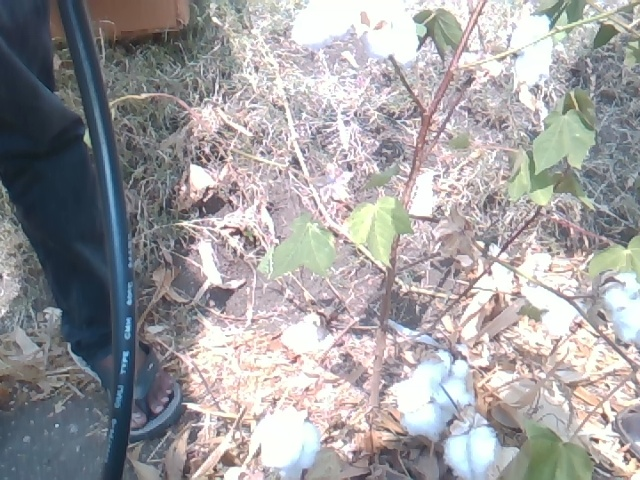cotton: (289, 1, 428, 70), (394, 350, 480, 435), (246, 401, 328, 474), (439, 413, 513, 478), (505, 15, 557, 102), (278, 305, 344, 367), (595, 265, 640, 347), (171, 161, 220, 209)
